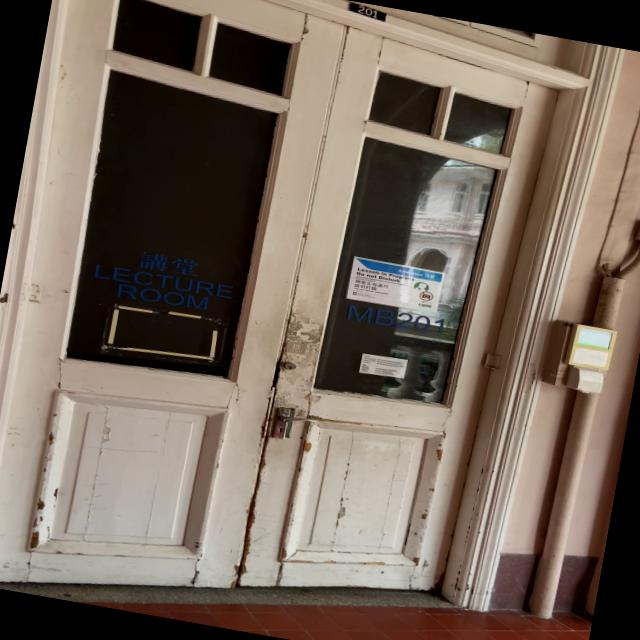room201: (345, 0, 387, 22)
room201Window: (342, 300, 450, 336)
